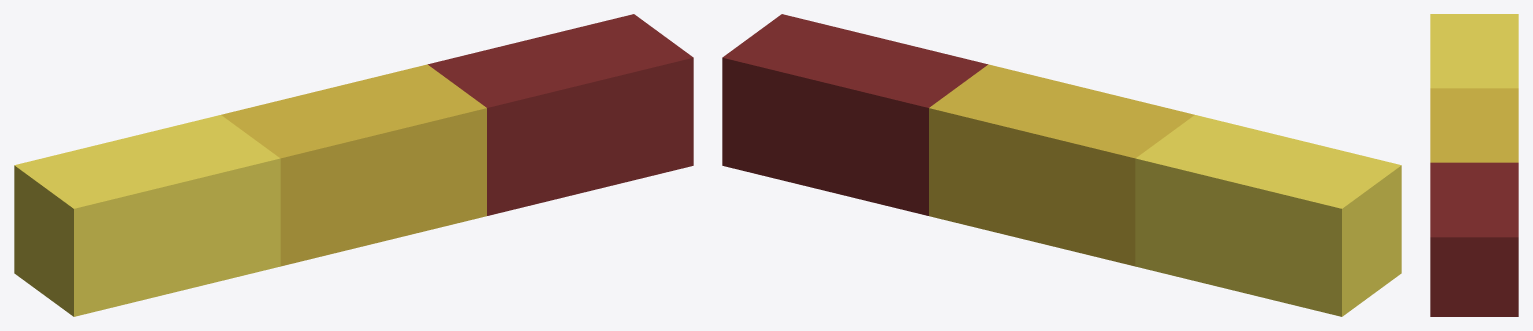
3 views of the same model, side by side, from view 1: azimuth 30°, elevation 25°; view 2: azimuth 150°, elevation 25°; view 3: azimuth 270°, elevation 25° (orthographic). The views are drawn at different scales.
Visible parts, largest first — view 1: S&W Stack; view 2: S&W Stack; view 3: S&W Stack.
Part boxes in pixels (box(x1,y1,x2,y2)): S&W Stack: box(14, 14, 693, 316); S&W Stack: box(722, 14, 1401, 316); S&W Stack: box(1430, 14, 1518, 316).
Size of the model in its own units: 0.6 by 0.1 by 0.1.
Materials: 1 (1 with a texture image).
